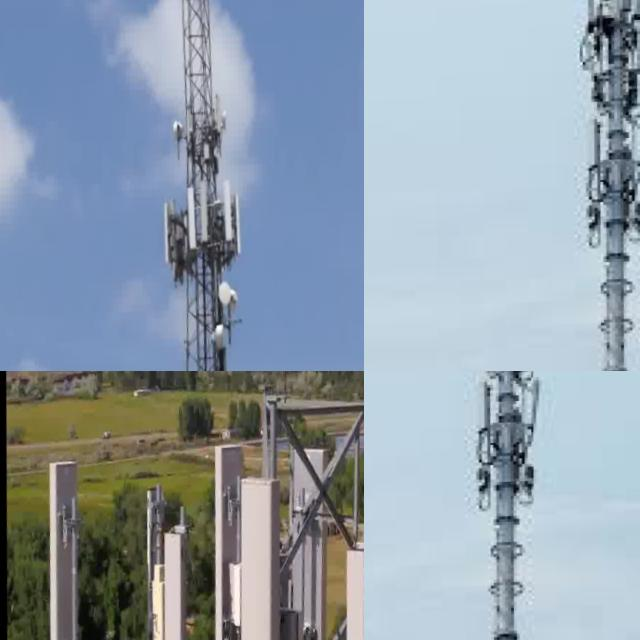GSM Antenna: (198, 473, 305, 640), (15, 451, 103, 640), (265, 436, 346, 640), (195, 433, 247, 640), (140, 526, 204, 640), (320, 539, 364, 640), (568, 120, 605, 183), (458, 383, 495, 446), (146, 199, 168, 280), (171, 184, 193, 262), (211, 177, 232, 257), (186, 178, 207, 258), (517, 383, 544, 441), (221, 199, 239, 270), (615, 0, 640, 43), (627, 120, 640, 178), (205, 89, 219, 136), (578, 0, 598, 31)
Microwave Antenna: (198, 326, 219, 364), (205, 281, 225, 315), (163, 118, 180, 153), (215, 295, 236, 319), (214, 114, 227, 147)
